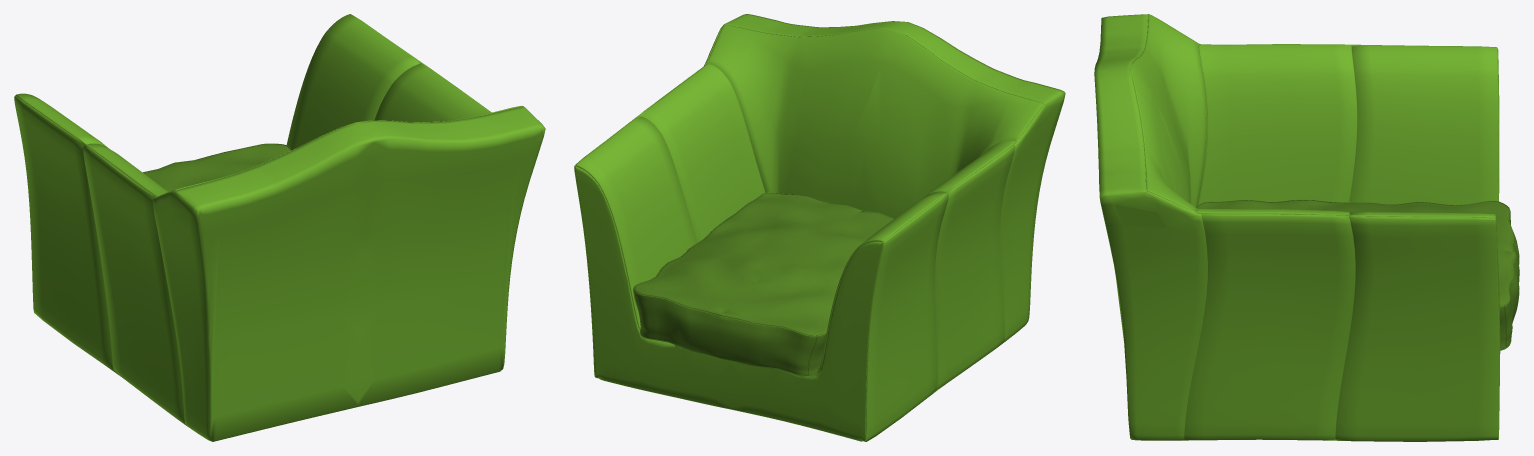
File: sillonVerde.obj
The picture shows the model from 3 angles, left to right: view 1: azimuth 30°, elevation 25°; view 2: azimuth 150°, elevation 25°; view 3: azimuth 270°, elevation 25°; orthographic projection. The views are drawn at different scales.
Parts seen in each view (by area): view 1: sillonVerde:Line29, sillonVerde:Loft10; view 2: sillonVerde:Line29, sillonVerde:Loft10; view 3: sillonVerde:Line29, sillonVerde:Loft10.
Boxes of the visible parts, x1,y1,x2,y2 form: sillonVerde:Line29: [14, 14, 545, 441]; sillonVerde:Loft10: [143, 143, 291, 191]; sillonVerde:Line29: [574, 14, 1065, 441]; sillonVerde:Loft10: [633, 192, 894, 376]; sillonVerde:Line29: [1094, 14, 1500, 441]; sillonVerde:Loft10: [1196, 199, 1519, 350].
Size of the model in its own units: 98.93 by 76.96 by 99.27.
2 materials, 2 textured.
